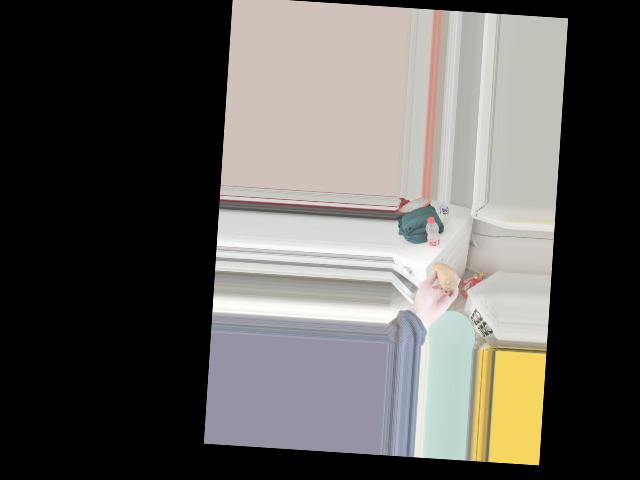sweet_potato: (427, 261, 456, 294)
